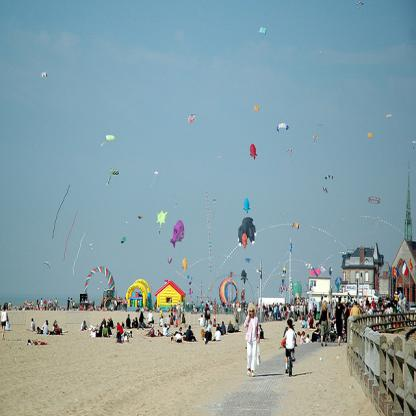handbag: (256, 338, 261, 366), (281, 338, 286, 345)
